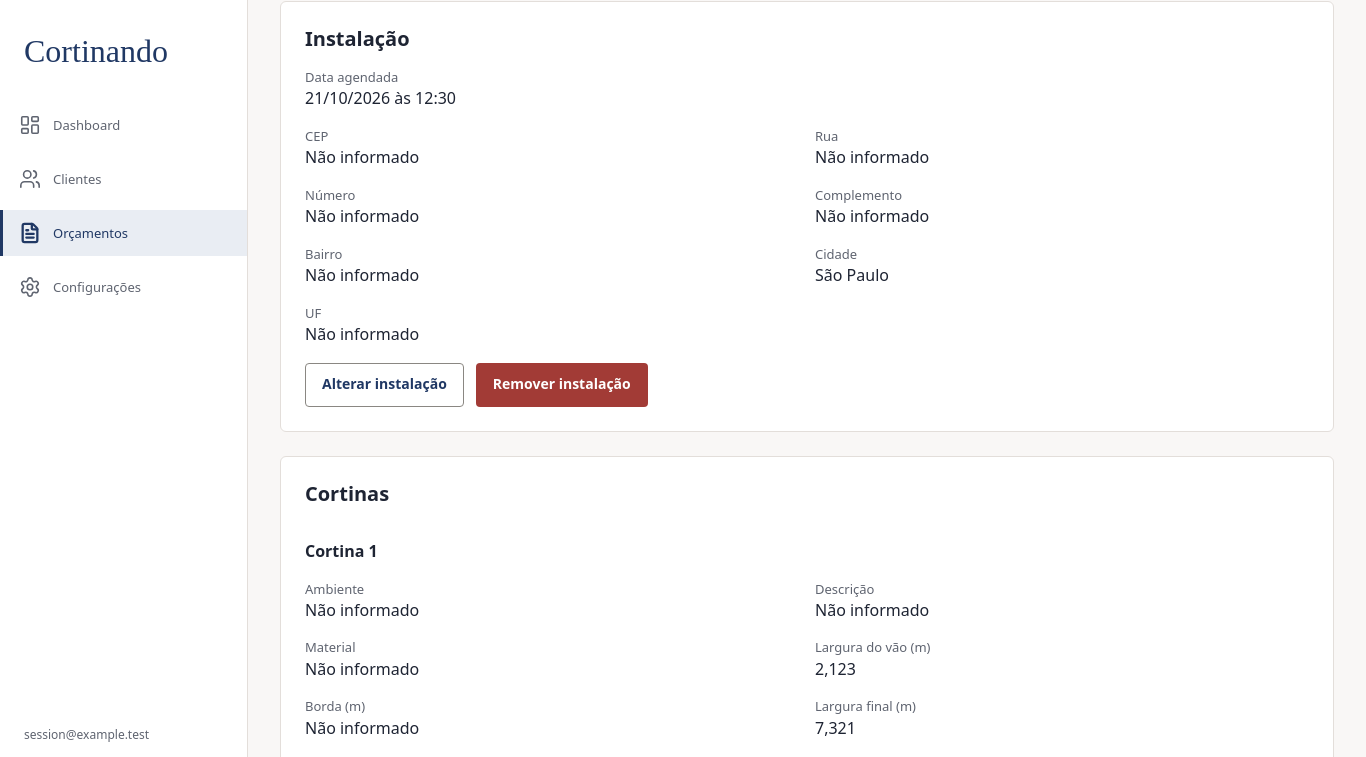
editing retains the existing instant precision
The image size is (1366, 757).
(page scrolled)
Click the button "Alterar instalação" at (384, 385), box [305, 363, 464, 407]
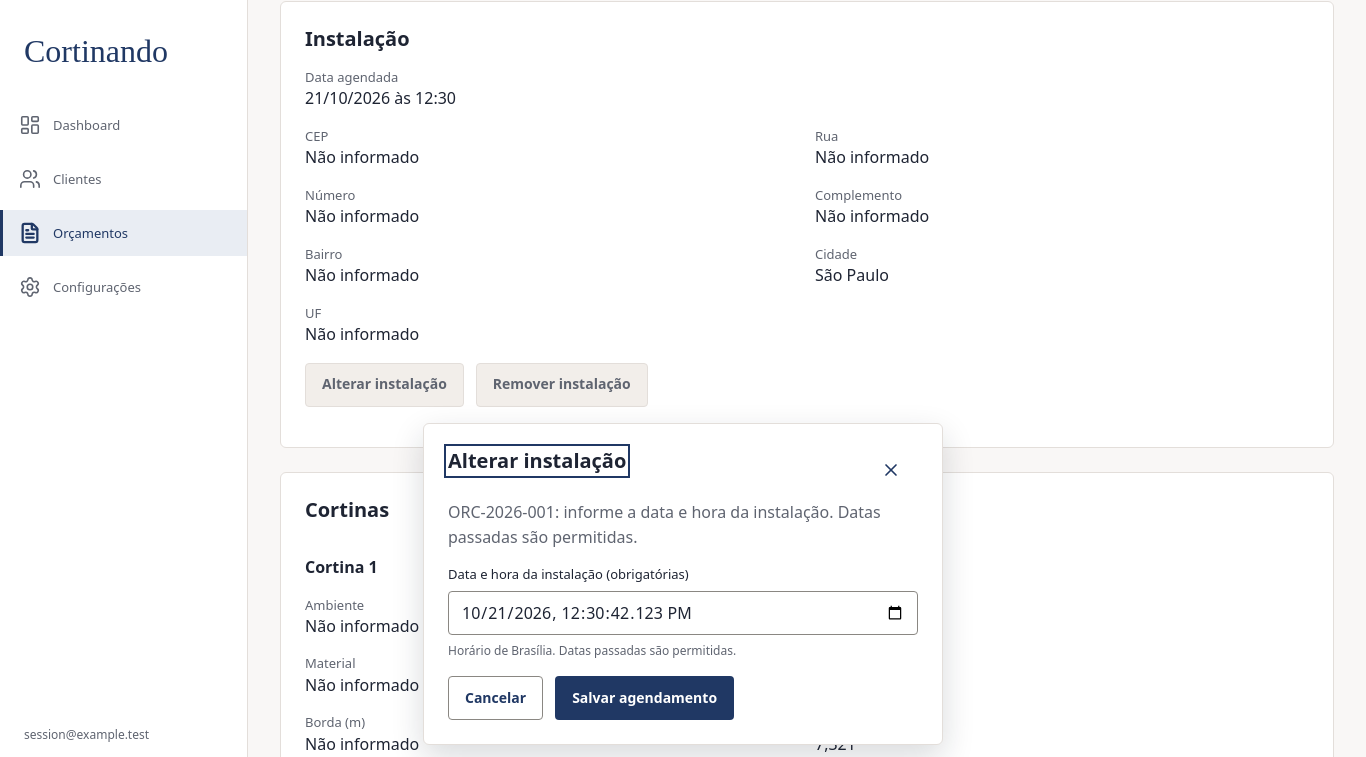
Click the button "Salvar agendamento" at (645, 698), box [555, 676, 734, 720]
(page scrolled)
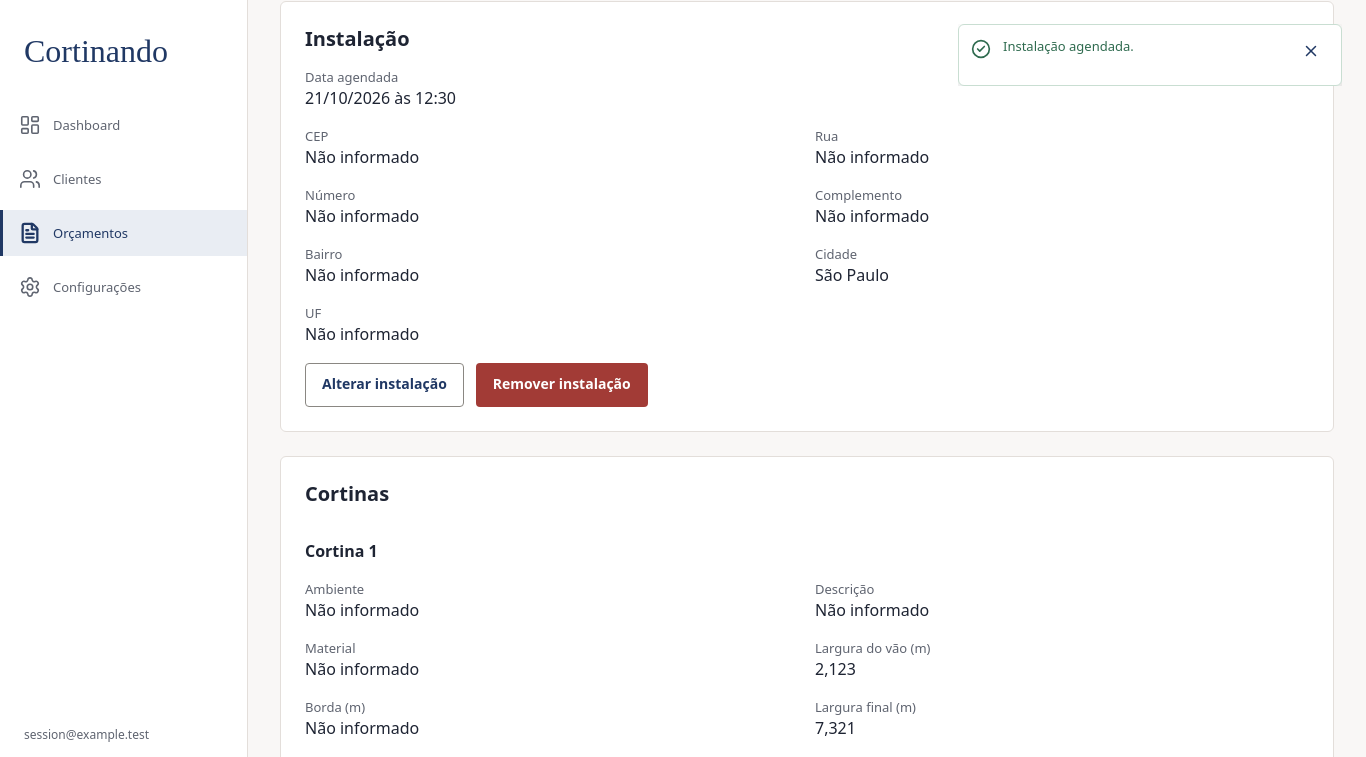
Check: the dialog is gone
